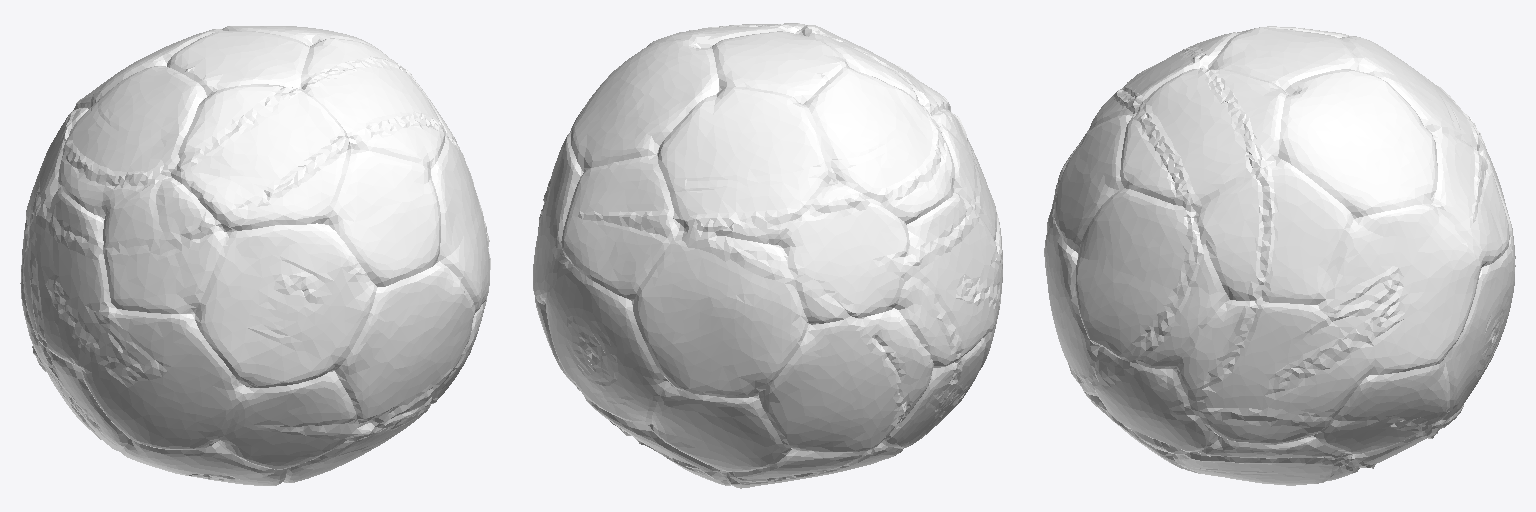
robot.urdf — mini_soccer_ball:
<robot name="mini_soccer_ball">
    <link name="base_link">
        <visual>
            <origin xyz="-0.0 -0.0 0.0" rpy="0.0 0.0 0.0" />
            <geometry>
                <mesh filename="mini_soccer_ball/textured.obj" scale="1 1 1" />
            </geometry>
            <material name="texture">
                <color rgba="1.0 1.0 1.0 1.0" />
            </material>
        </visual>
        <collision>
            <origin xyz="-0.0 -0.0 0.0" rpy="0.0 0.0 0.0" />
            <geometry>
                <mesh filename="mini_soccer_ball/textured_coacd_0.stl" scale="1 1 1" />
            </geometry>
        </collision>
        <inertial>
            <mass value="0.123" />
            <inertia ixx="1e-3" ixy="0.0" ixz="0.0" iyy="1e-3" iyz="0.0" izz="1e-3" />
        </inertial>
    </link>
</robot>

--- What the picture shows (computed from the rendered views, not written in the file) ---
3 views of the same robot in one strip: view 1: azimuth 30°, elevation 25°; view 2: azimuth 150°, elevation 25°; view 3: azimuth 270°, elevation 25° (orthographic).
Model mini_soccer_ball with 1 links and 0 joints (none), rooted at base_link, posed all joints at 0.
Links seen in each view (by area): view 1: base_link; view 2: base_link; view 3: base_link.
Link boxes in pixels (bbox=[...]): base_link: bbox=[20, 26, 490, 485]; base_link: bbox=[533, 23, 1002, 488]; base_link: bbox=[1044, 26, 1515, 485].
Bounding box of the posed robot: 0.1253 × 0.1264 × 0.122 m (x, y, z).
Meshes: 1 distinct files referenced, 1 mesh visuals loaded (1 OBJ).